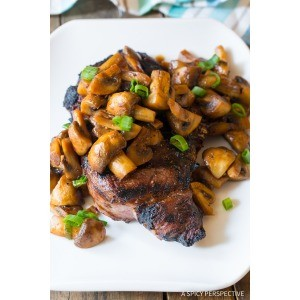mushroom_brain food: (93, 74, 197, 125)
